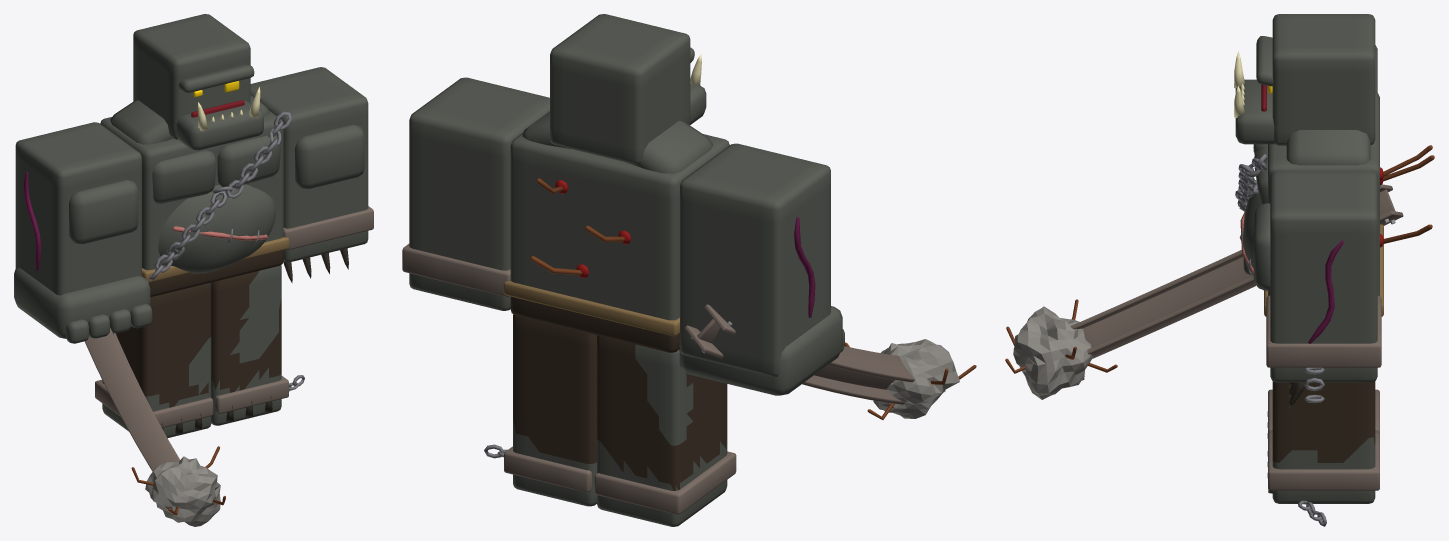
File: zombi_gigante_hd.glb
3 renders of one model, left to right at view 1: azimuth 30°, elevation 25°; view 2: azimuth 150°, elevation 25°; view 3: azimuth 270°, elevation 25°, orthographic. The views are drawn at different scales.
Visible parts, largest first — view 1: Right Arm, Torso, Left Arm, Head, Right Leg, Left Leg, Arma; view 2: Torso, Right Arm, Left Arm, Right Leg, Head, Left Leg, Arma; view 3: Left Arm, Head, Left Leg, Arma, Torso.
Part boxes in pixels (left/top/right/bottom): Right Arm: left=14, top=122, right=152, bottom=343; Torso: left=100, top=95, right=291, bottom=297; Left Arm: left=250, top=67, right=373, bottom=283; Head: left=133, top=14, right=263, bottom=150; Right Leg: left=95, top=282, right=213, bottom=437; Left Leg: left=211, top=265, right=304, bottom=425; Arma: left=84, top=327, right=225, bottom=526; Torso: left=503, top=111, right=729, bottom=352; Right Arm: left=679, top=143, right=844, bottom=395; Left Arm: left=402, top=77, right=549, bottom=310; Right Leg: left=594, top=335, right=736, bottom=526; Head: left=550, top=14, right=706, bottom=164; Left Leg: left=484, top=314, right=596, bottom=506; Arma: left=685, top=304, right=976, bottom=419; Left Arm: left=1253, top=170, right=1381, bottom=408; Head: left=1234, top=14, right=1375, bottom=145; Left Leg: left=1267, top=381, right=1379, bottom=526; Arma: left=1005, top=184, right=1403, bottom=399; Torso: left=1235, top=92, right=1434, bottom=316.
Bounding box in the file's own units: 10.86 × 11.78 × 10.56.
1 material, 1 textured.
